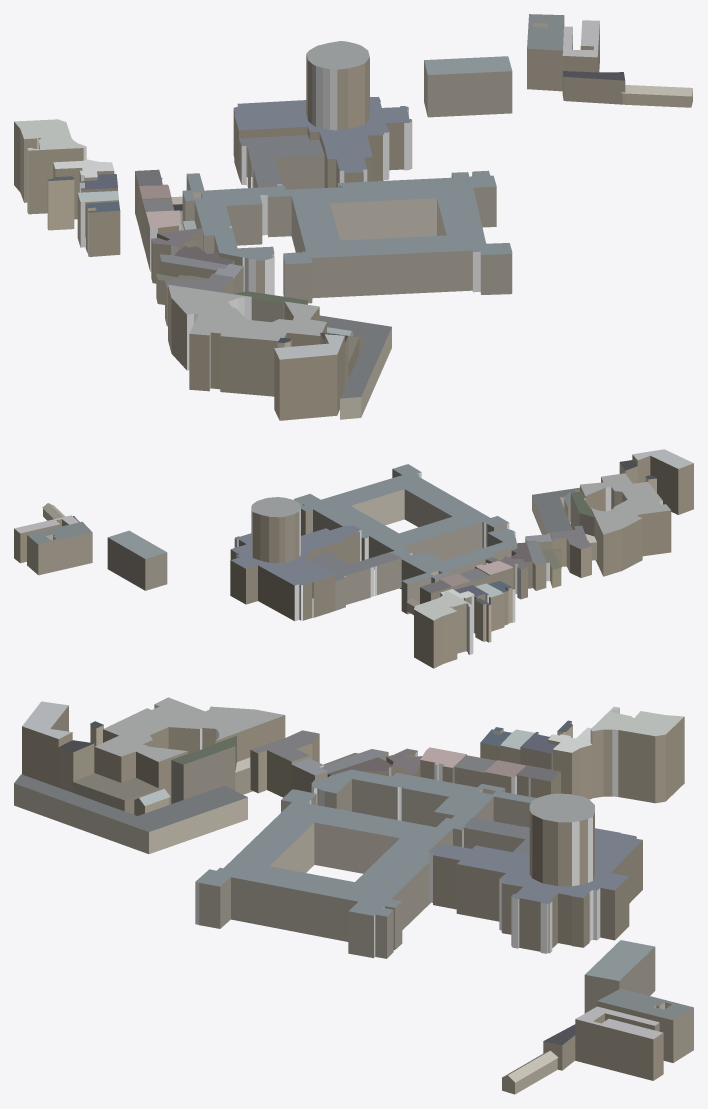
3 views of the same model, one above another, from view 1: azimuth 30°, elevation 25°; view 2: azimuth 150°, elevation 25°; view 3: azimuth 270°, elevation 25° (orthographic). The views are drawn at different scales.
Visible parts, largest first — view 1: tuile; view 2: tuile; view 3: tuile.
Part boxes in pixels (box(x1,y1,x2,y2)): tuile: box(14, 14, 692, 420); tuile: box(14, 449, 693, 668); tuile: box(14, 697, 693, 1094).
Size of the model in its own units: 283 by 46.49 by 237.
